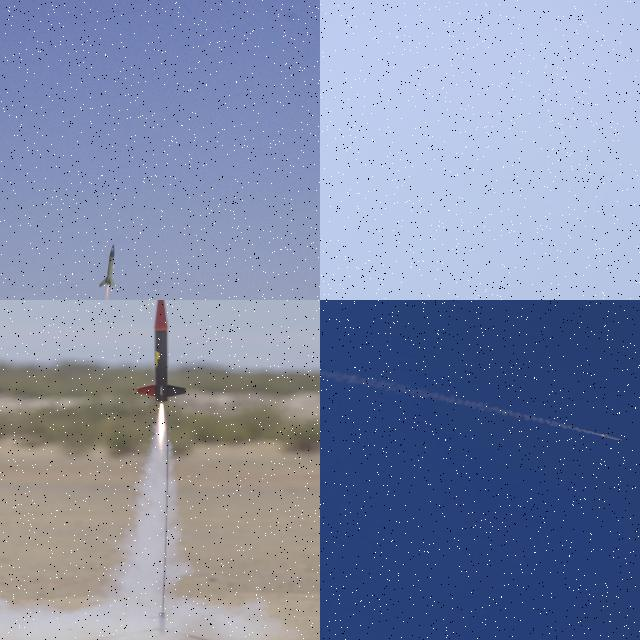Rocket: (136, 300, 186, 403), (97, 242, 119, 288), (602, 434, 622, 441)
